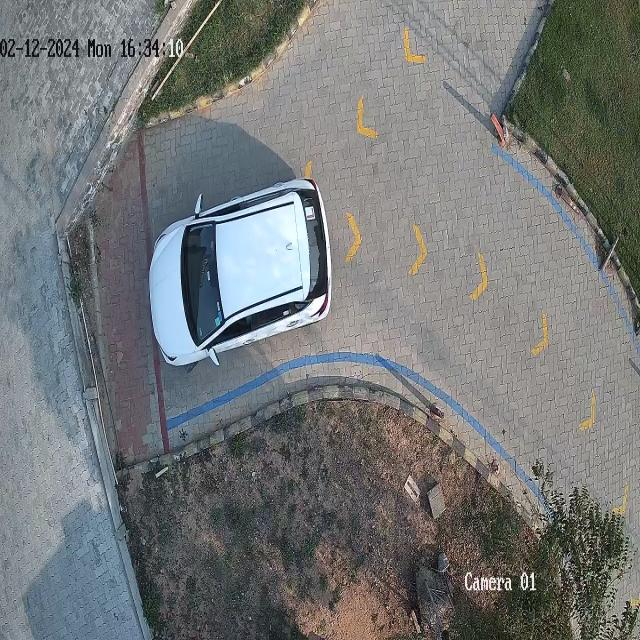car: (149, 176, 333, 376)
